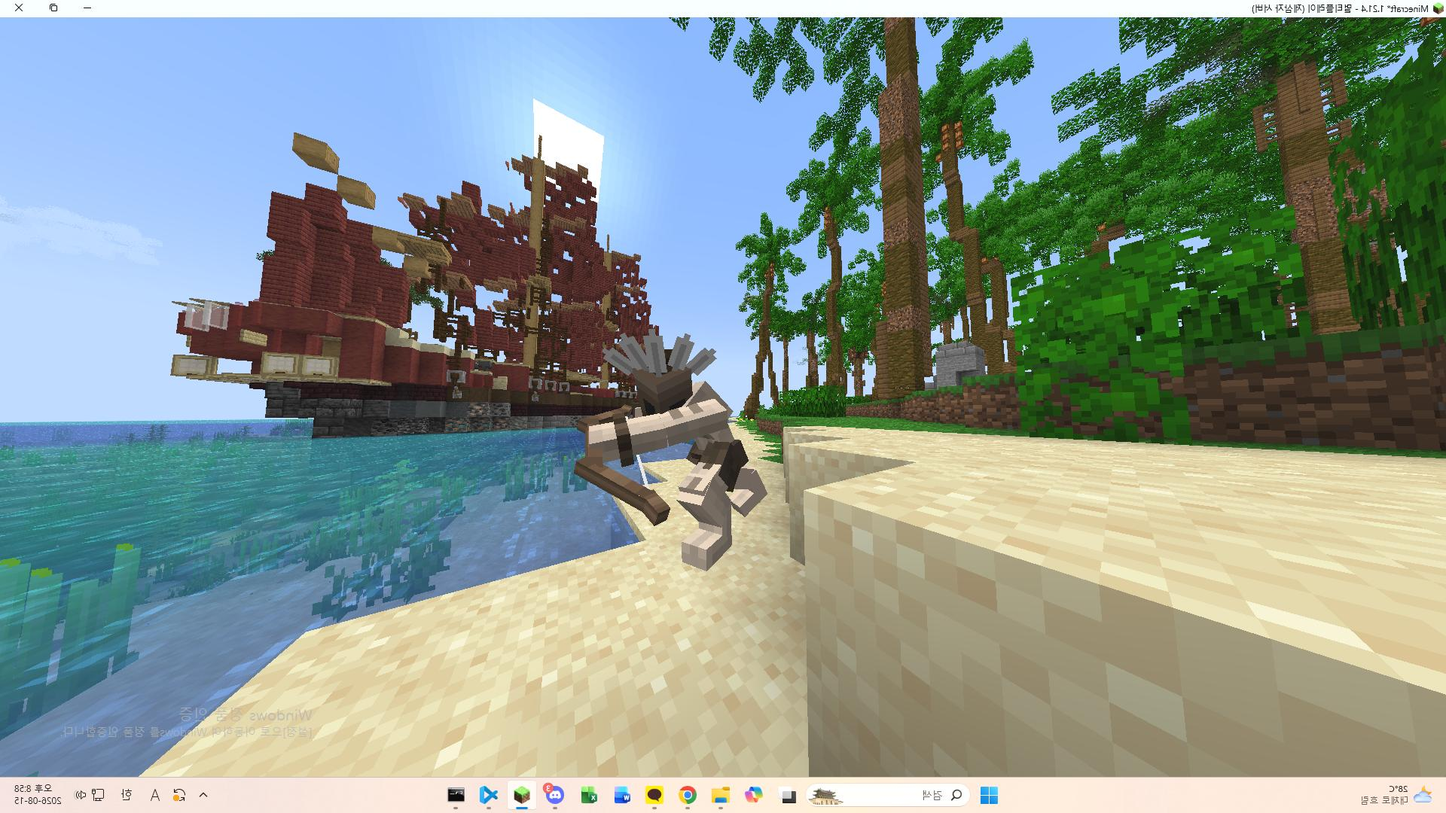bow_indian: (512, 310, 797, 607)
